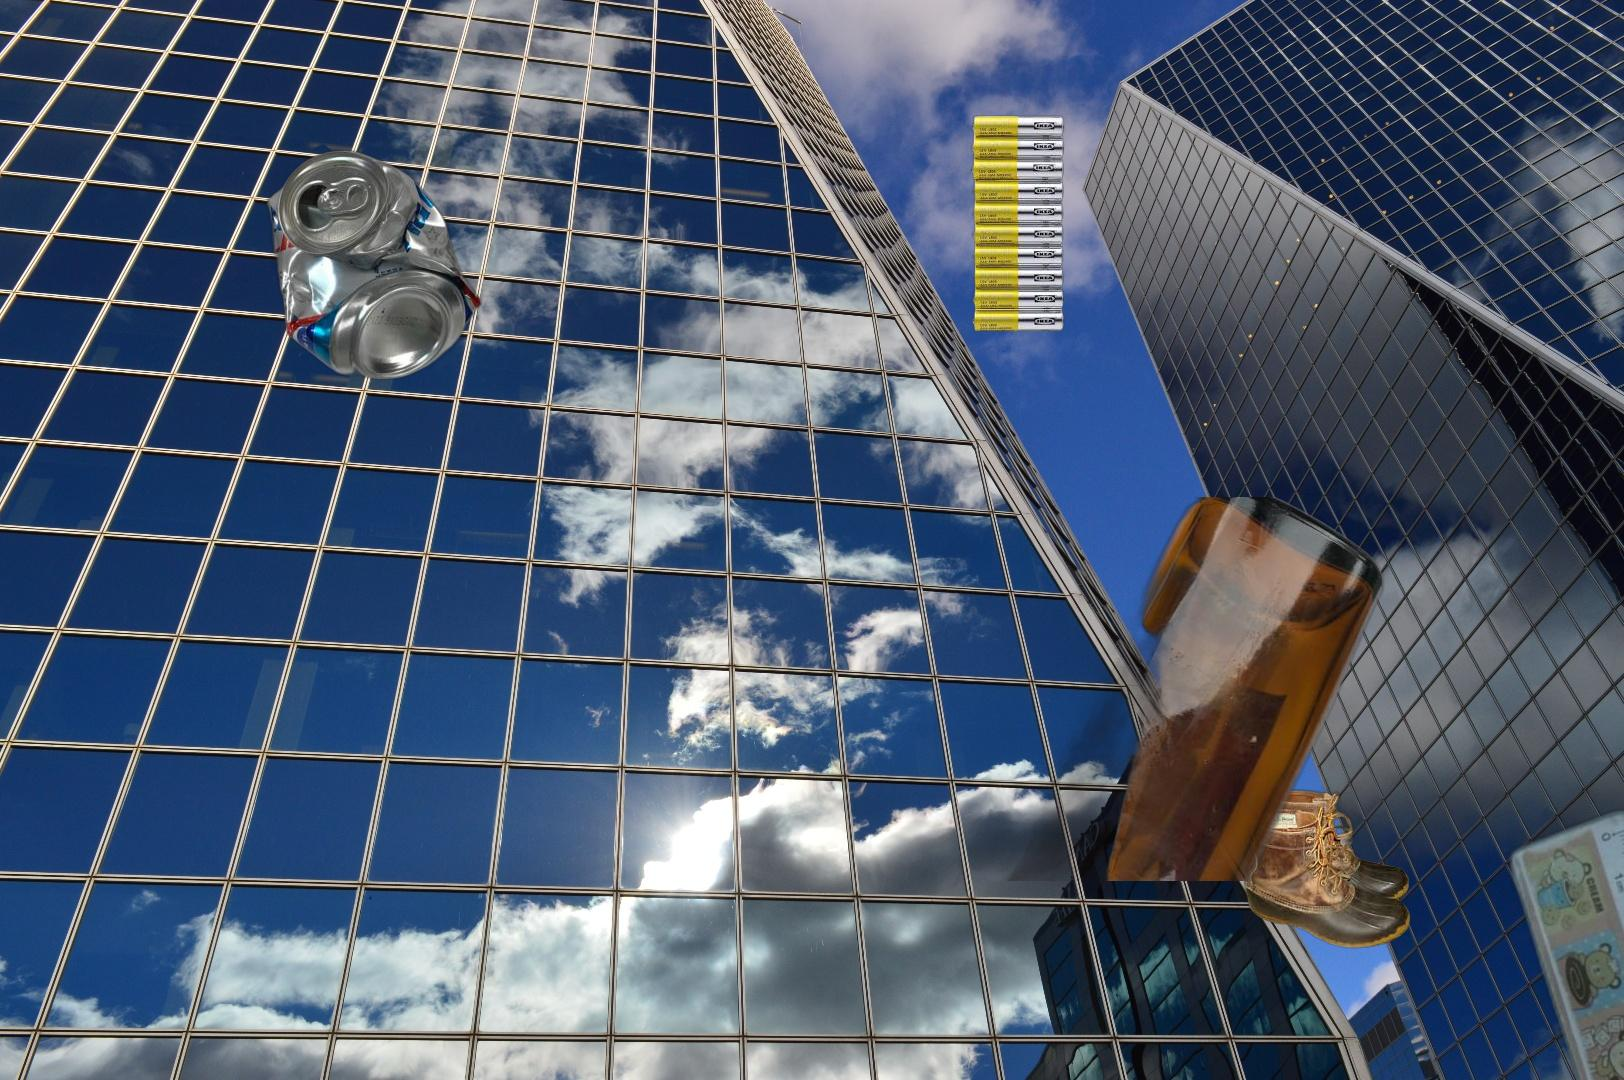battery: (967, 113, 1067, 334)
glass: (992, 497, 1426, 881)
metal-cans: (261, 143, 487, 383)
penholder: (1501, 751, 1624, 1080)
shoes: (1242, 783, 1413, 951)
